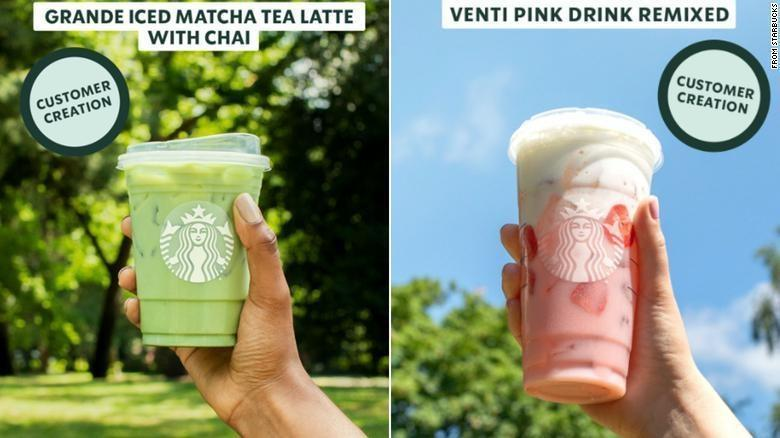cup-disposable: (506, 104, 664, 403), (116, 132, 273, 350)
